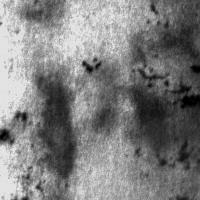patches: (124, 109, 200, 200), (124, 118, 200, 200), (62, 145, 158, 200), (34, 75, 78, 177), (133, 1, 200, 62), (121, 90, 178, 156), (149, 138, 196, 169), (161, 78, 200, 112), (1, 108, 30, 149), (79, 54, 104, 74)
